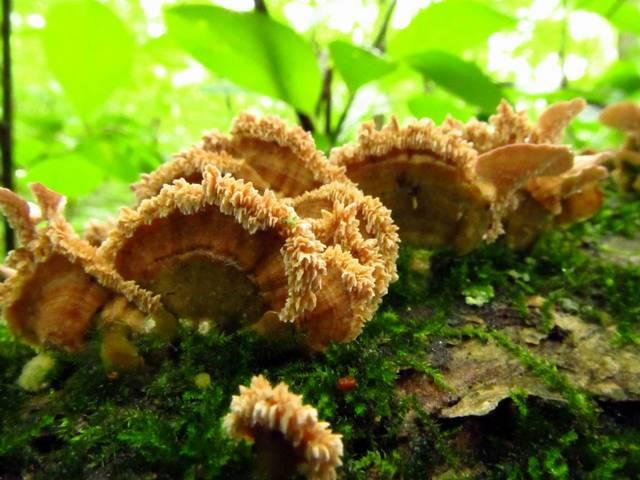Non-edible Mushroom: (87, 109, 401, 357), (328, 96, 611, 259)
